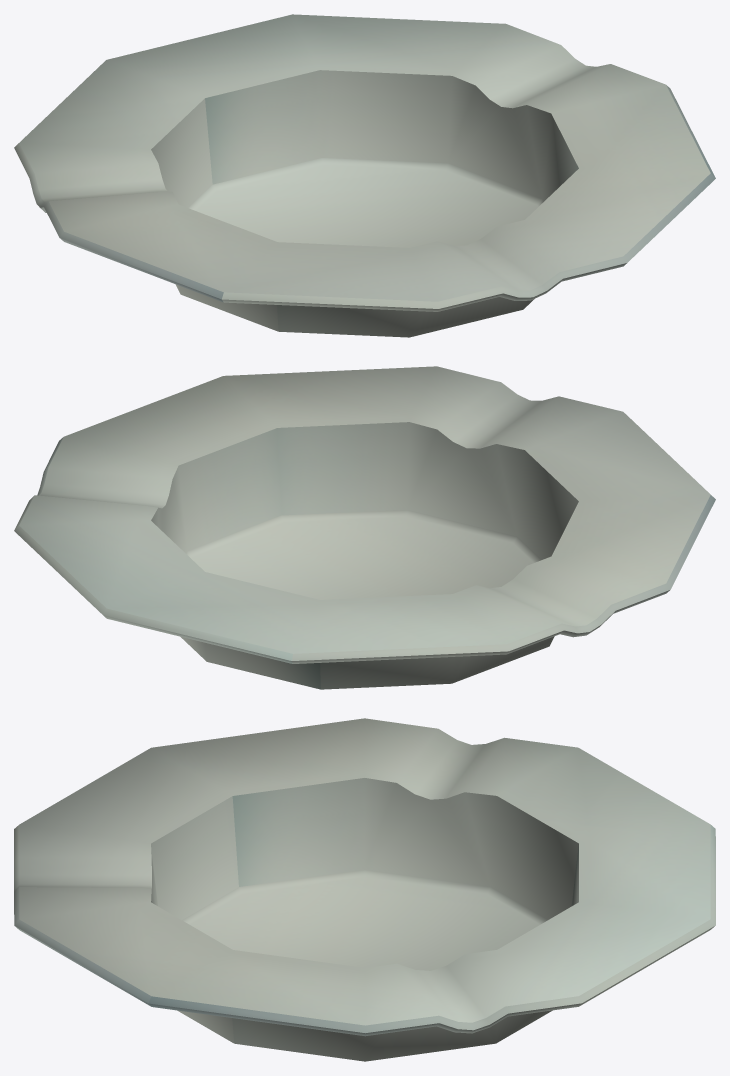
The model's file is prop_ashtray02b.fbx.
The picture shows the model from 3 angles, top to bottom: view 1: azimuth 30°, elevation 25°; view 2: azimuth 150°, elevation 25°; view 3: azimuth 270°, elevation 25°; orthographic projection. The views are drawn at different scales.
Visible parts, largest first — view 1: prop_ashtray02b; view 2: prop_ashtray02b; view 3: prop_ashtray02b.
Part boxes in pixels (x1=…): prop_ashtray02b: x1=14, y1=14, x2=715, y2=337; prop_ashtray02b: x1=14, y1=366, x2=715, y2=689; prop_ashtray02b: x1=14, y1=718, x2=715, y2=1061.
Bounding box in the file's own units: 0.2181 × 0.032 × 0.2074.
